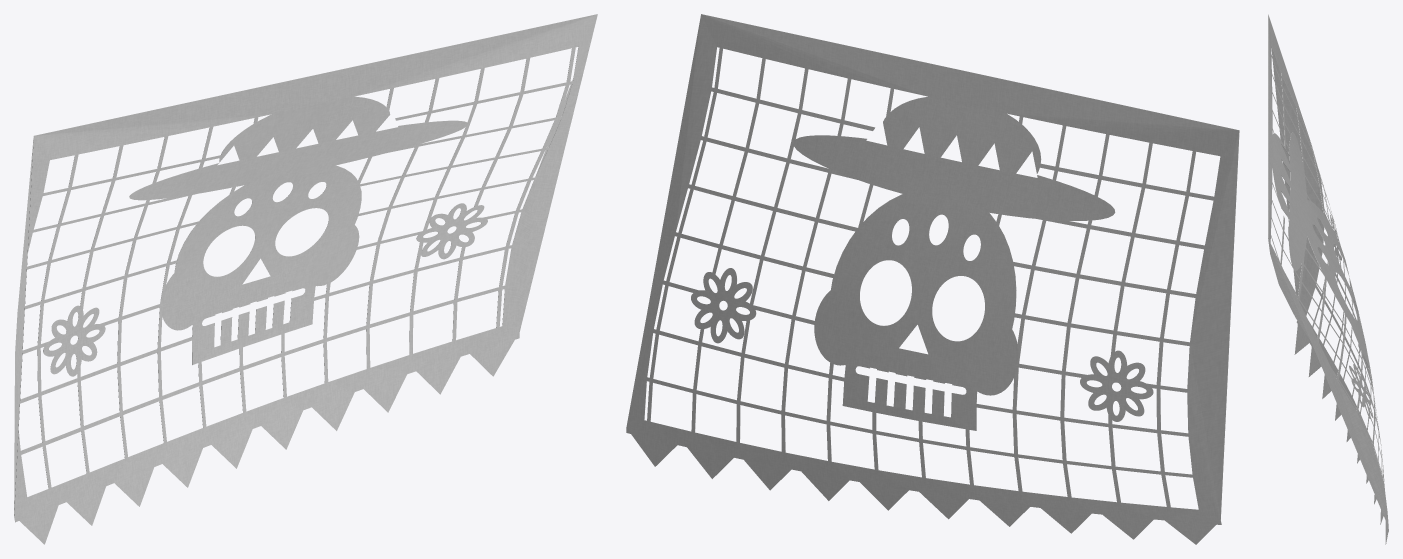
The model's file is papel_3_animado.glb.
The picture shows the model from 3 angles, left to right: view 1: azimuth 30°, elevation 25°; view 2: azimuth 150°, elevation 25°; view 3: azimuth 270°, elevation 25°; orthographic projection. The views are drawn at different scales.
Parts seen in each view (by area): view 1: Papel_3; view 2: Papel_3; view 3: Papel_3.
Part boxes in pixels (x1,y1,x2,y2): Papel_3: [14, 14, 597, 544]; Papel_3: [626, 14, 1239, 544]; Papel_3: [1268, 14, 1388, 544].
Bounding box in the file's own units: 0.58 × 0.4248 × 0.1397.
Materials: 1 (1 with a texture image).
